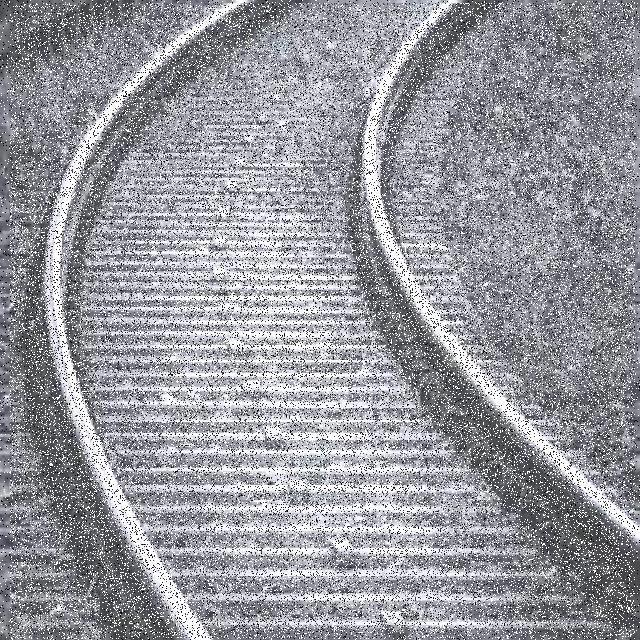rail: (11, 5, 636, 640)
